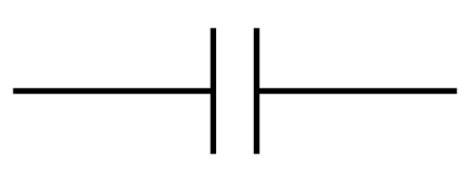Capacitor: (160, 8, 300, 159)
